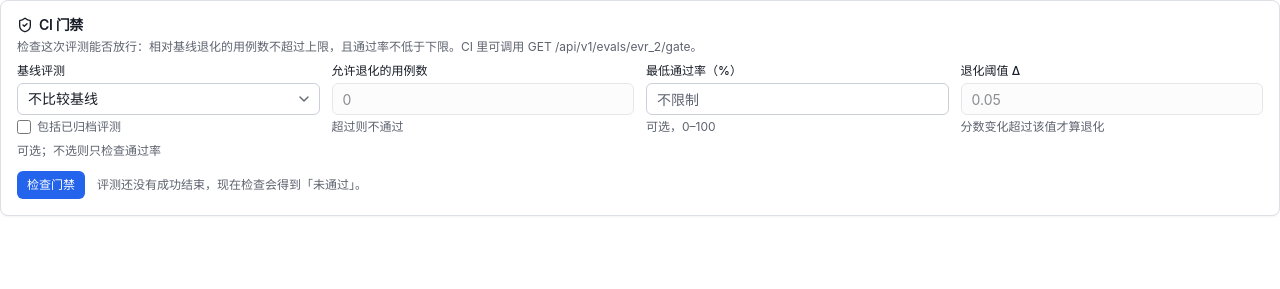
Test case: CI 门禁 › GatePanel：不选基线只检查通过率；非法输入不发请求
Expected: the text "评测还没有成功结束，现在检查会得到「未通过」。" is shown, [97,177,367,193]
Type "150" into the number field named "最低通过率" at (797, 99), box [646,83,948,115]
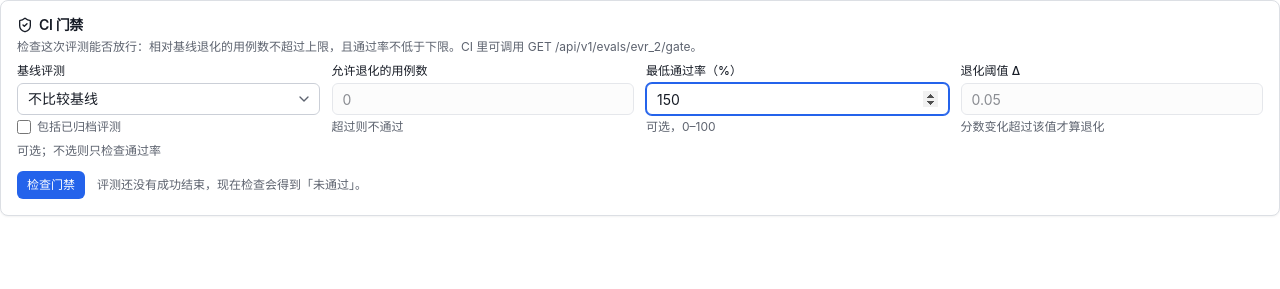
Click the button with test id "run-gate" at (51, 185), box [17,171,85,199]
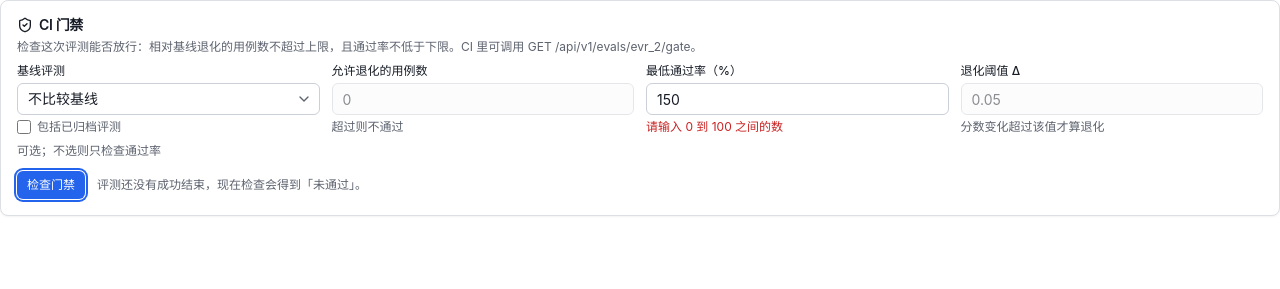
Expected: the text "请输入 0 到 100 之间的数" is shown, [646,119,783,134]
Clear the number field named "最低通过率" at (797, 99), box [646,83,948,115]
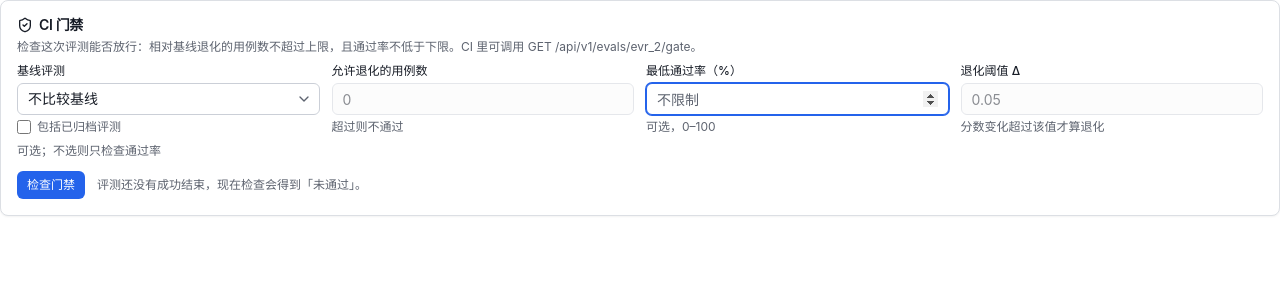
Click the button with test id "run-gate" at (51, 185), box [17,171,85,199]
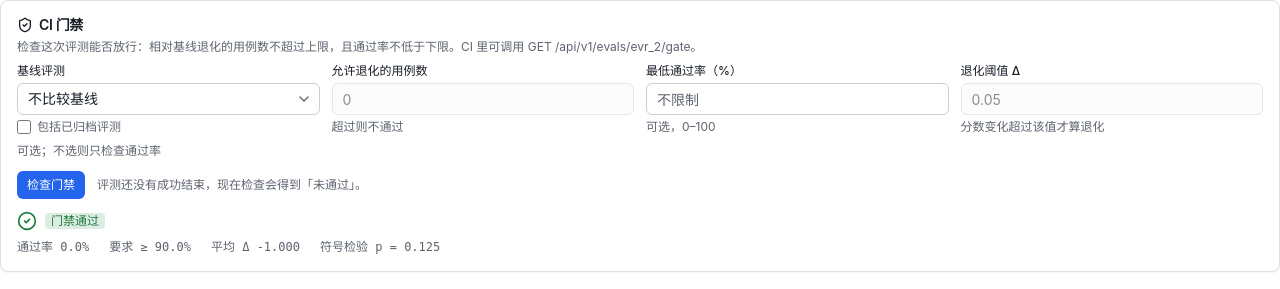
Expected: the text with test id "gate-verdict" reads "门禁通过", [51,213,99,228]
